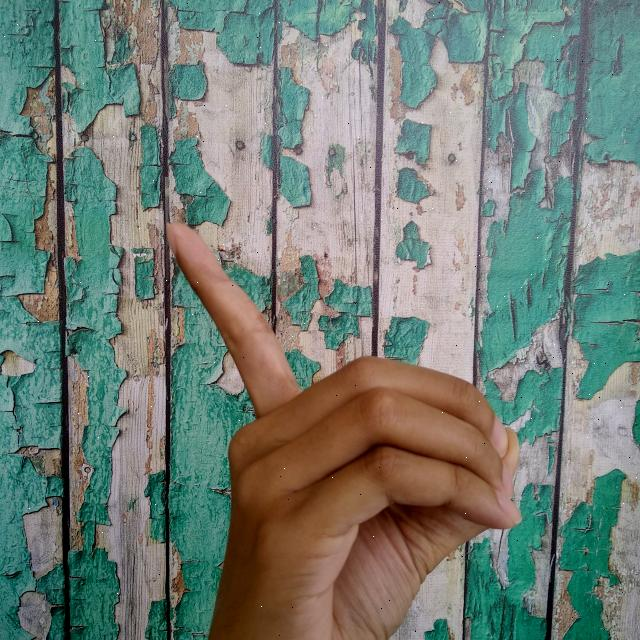D: (162, 213, 524, 640)
